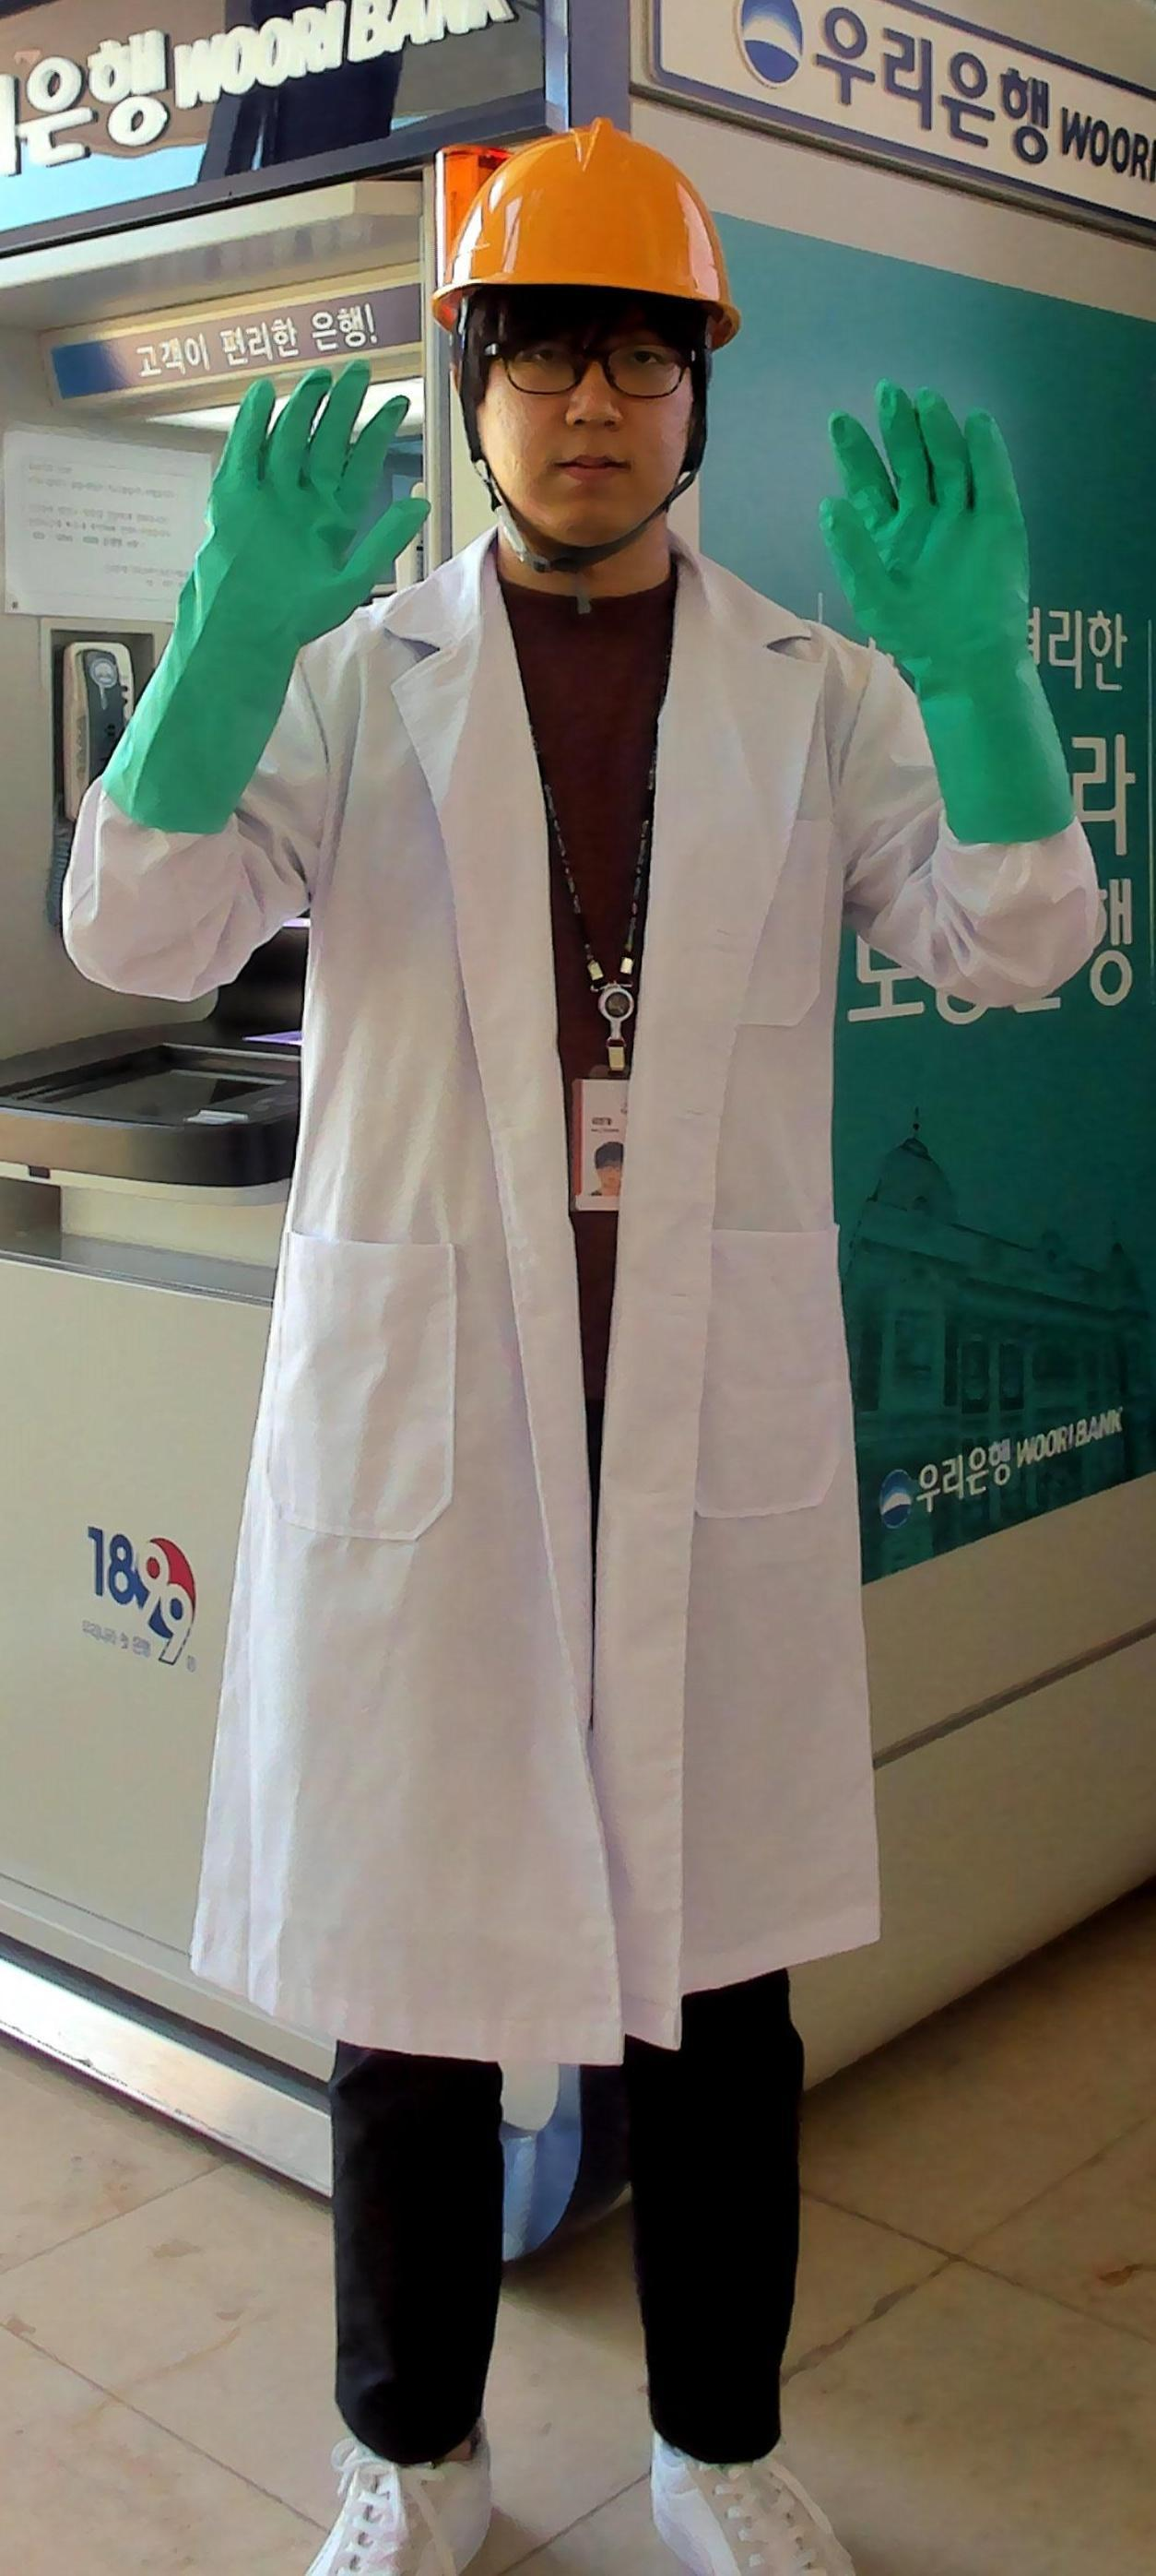lab_coat: (273, 665, 900, 2021)
